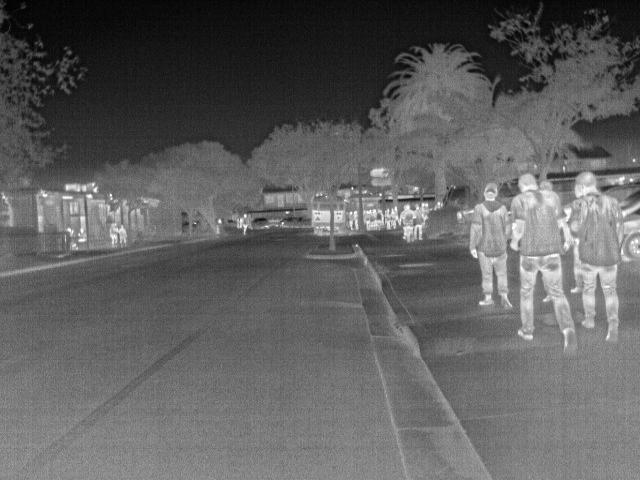car: (616, 204, 639, 264), (248, 216, 269, 228)
person: (509, 170, 577, 352), (566, 171, 621, 340), (469, 181, 511, 307), (399, 202, 415, 240), (412, 202, 427, 242), (62, 225, 81, 250), (108, 222, 121, 248), (379, 207, 393, 230), (240, 213, 252, 236), (348, 209, 360, 231), (76, 227, 89, 243)
